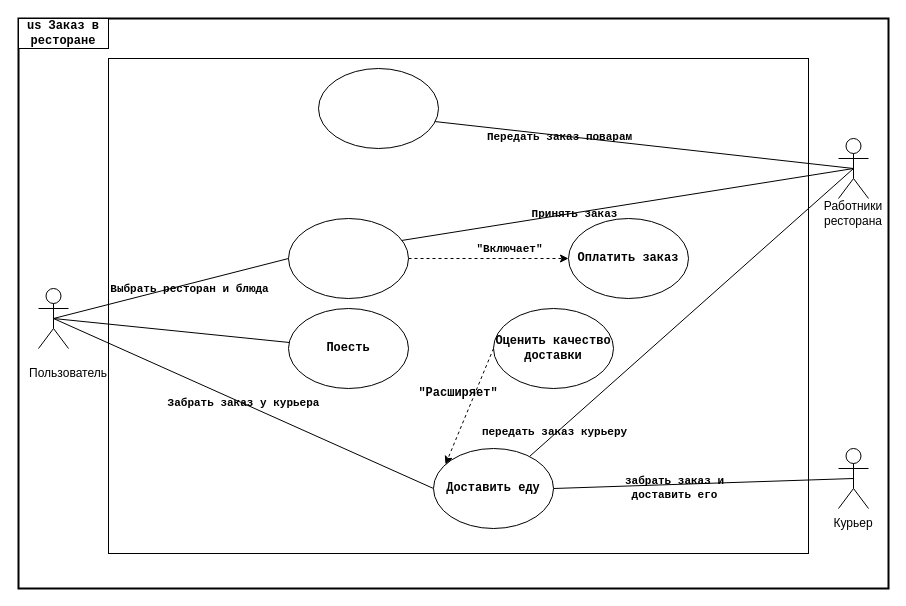
The diagram is 906 pixels wide and 606 high, and some of its shapes have lost their labels. The centre of each missing label's shape, as x and y in pixels:
"Заказать еду" belongs at (348,258).
"Приготовить еду" belongs at (378,108).
